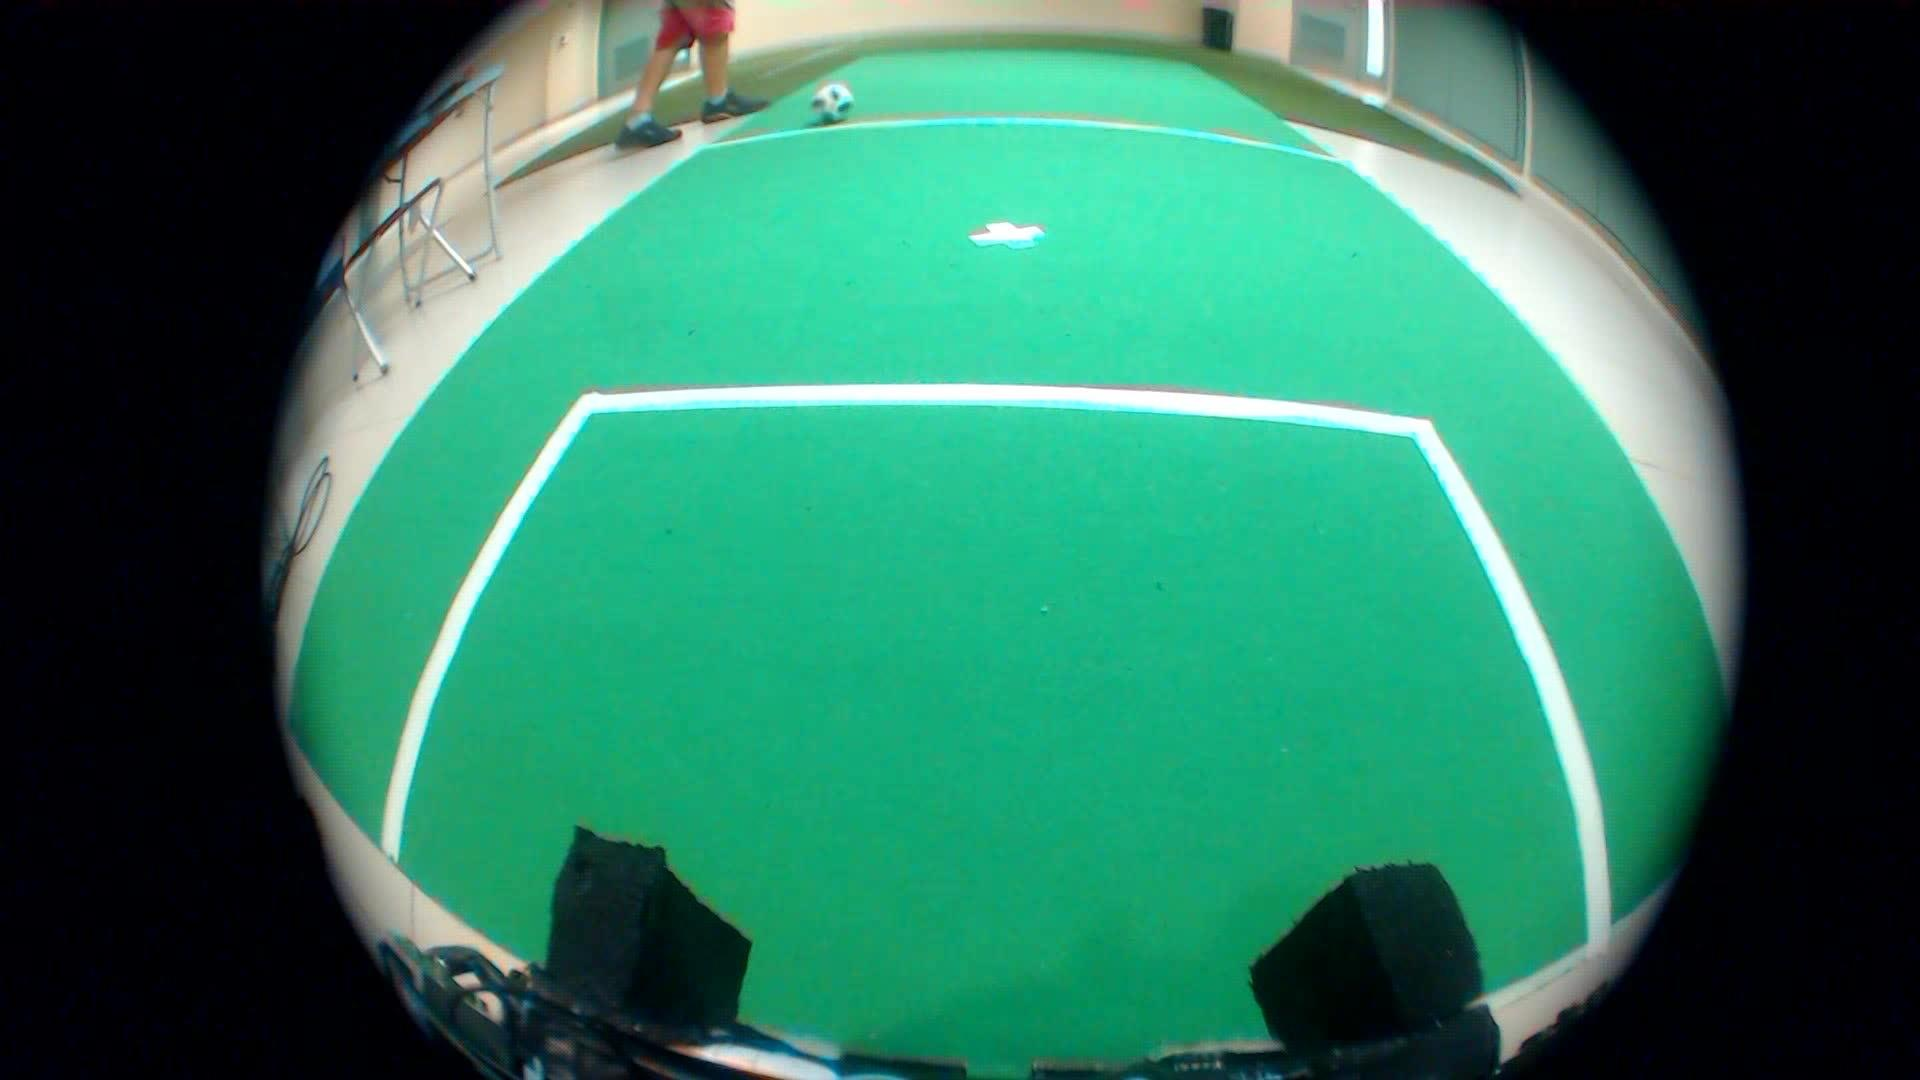ball: (800, 74, 855, 131)
